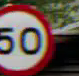Speed limit: (2, 2, 54, 73)
